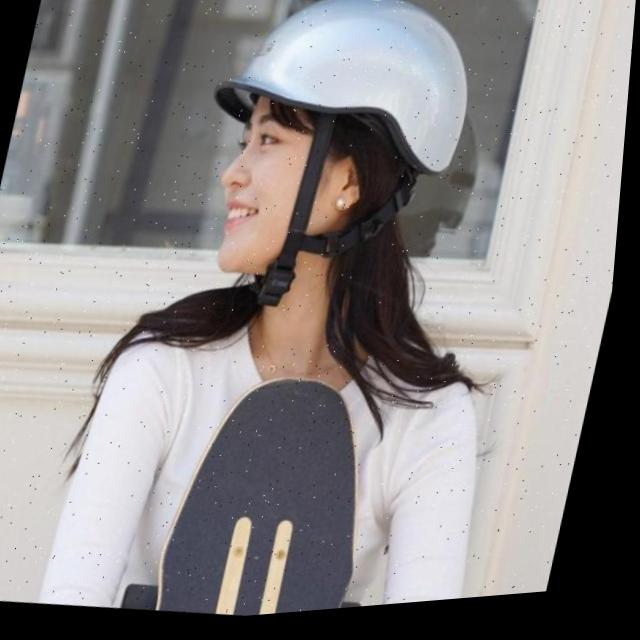helmet: (173, 0, 498, 338)
